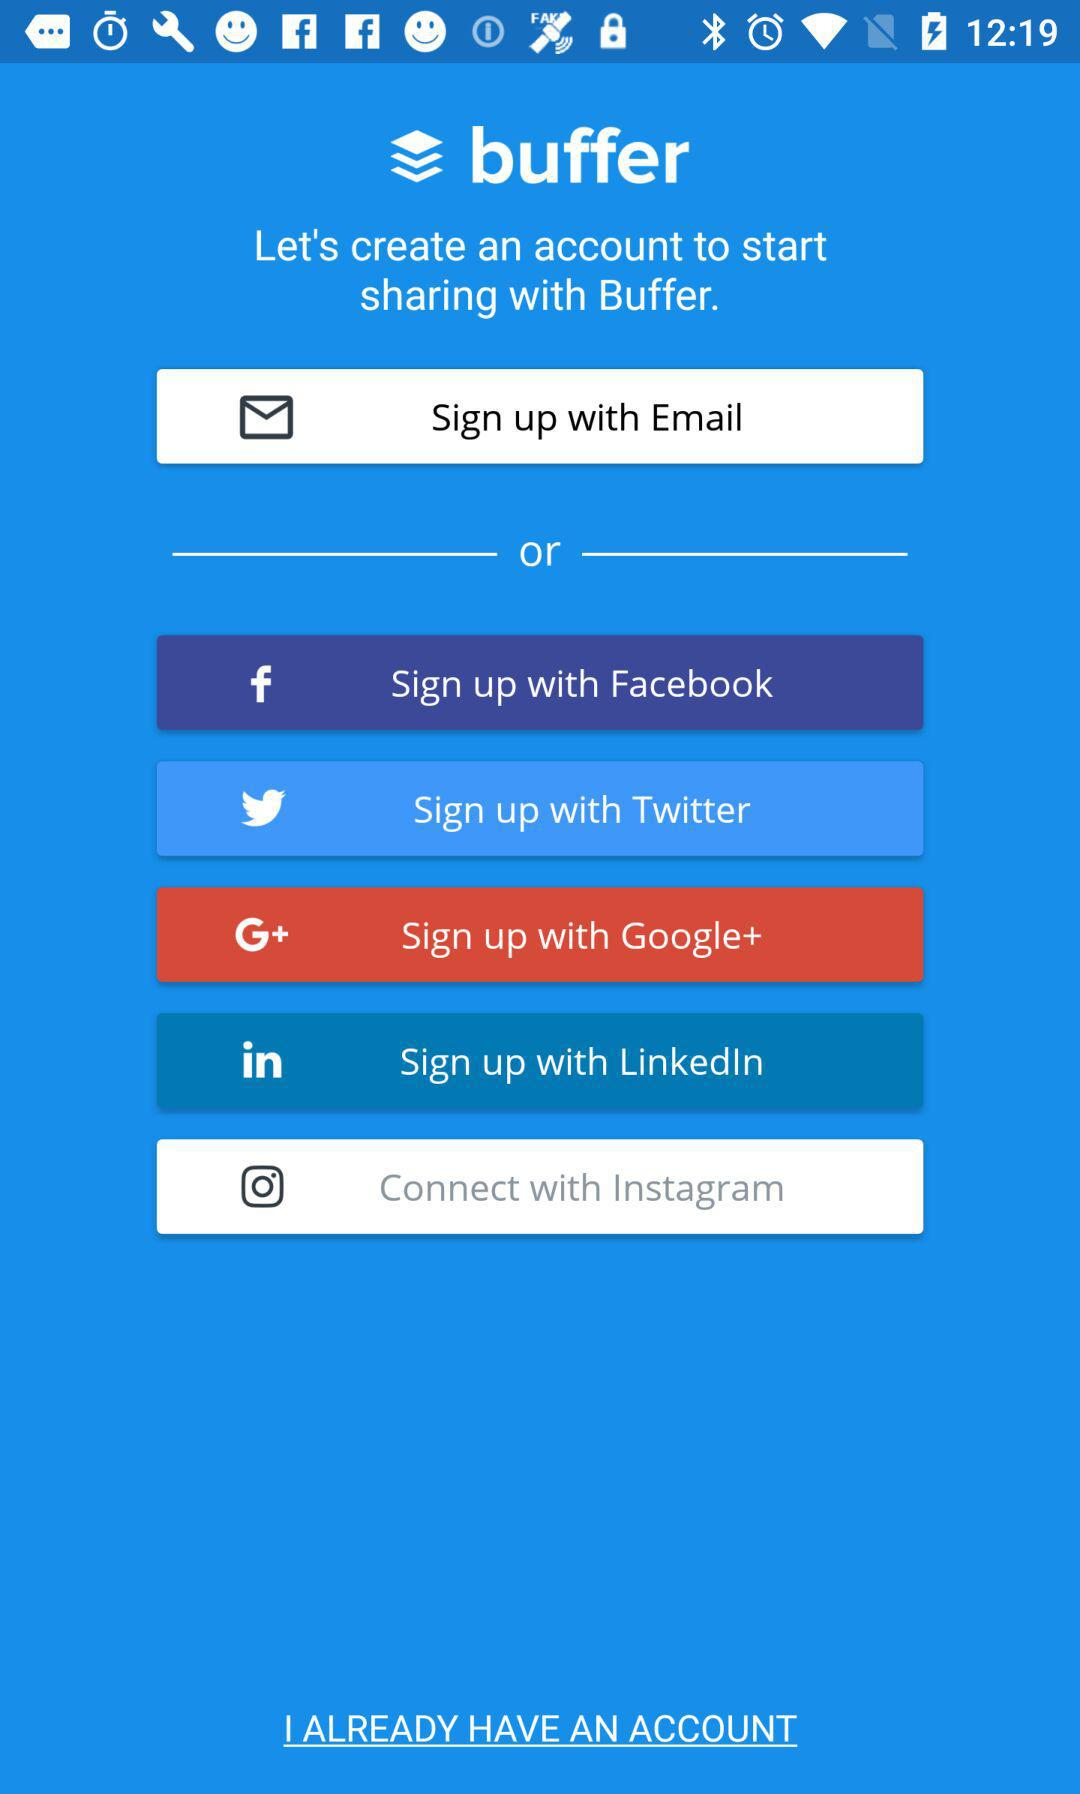Image: (389, 126, 691, 186)
Text: (256, 228, 828, 322), (283, 1715, 798, 1748), (520, 541, 562, 568)
TextButton: (158, 1014, 922, 1114), (156, 1138, 924, 1235), (158, 761, 924, 859), (158, 369, 924, 465), (158, 887, 924, 983), (158, 636, 924, 730)
UpperTaskBar: (1, 1, 1080, 64)
